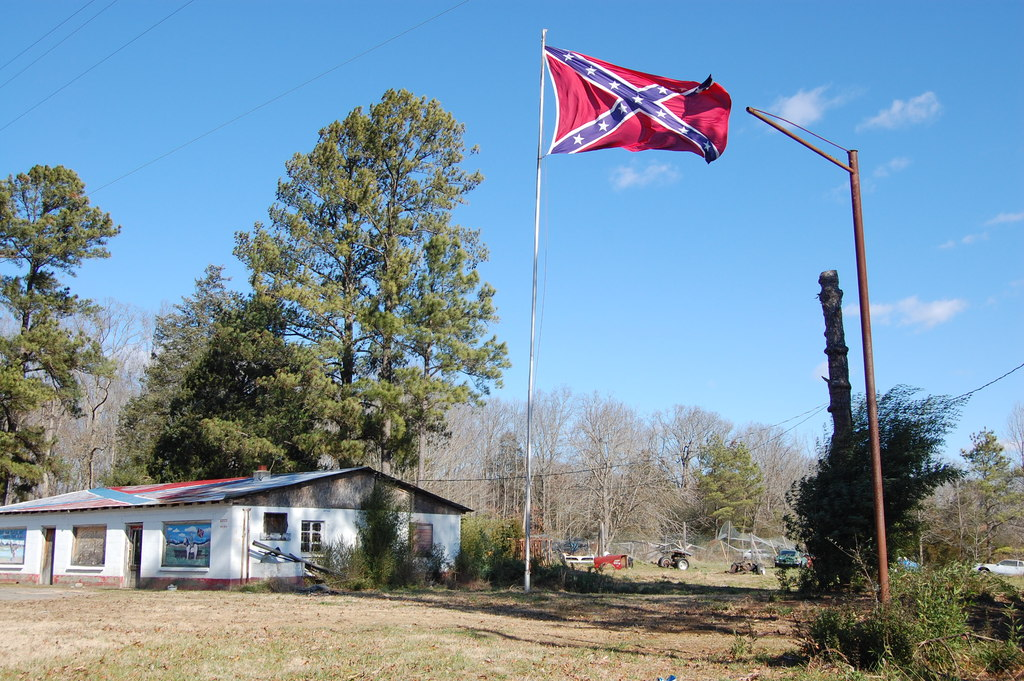Tree: (0, 290, 823, 564), (184, 79, 526, 495), (0, 158, 120, 515), (780, 381, 965, 605), (151, 285, 352, 486), (116, 253, 243, 492), (693, 433, 771, 538), (965, 429, 1023, 570)
